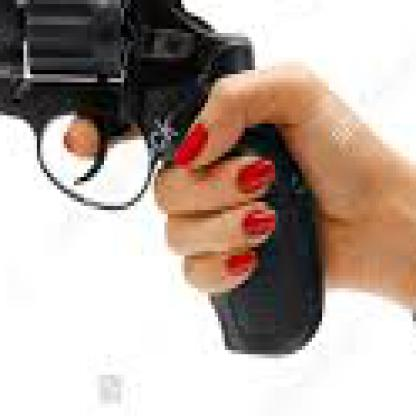gun: (0, 0, 336, 376)
